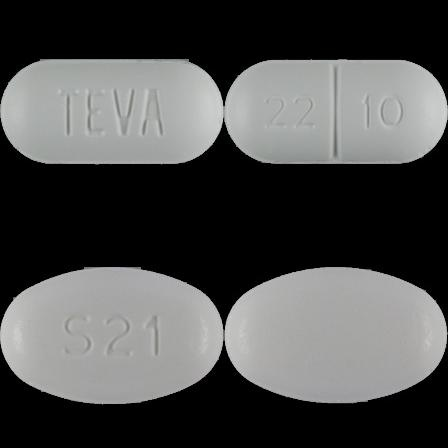68788-8946: (0, 0, 224, 224)
